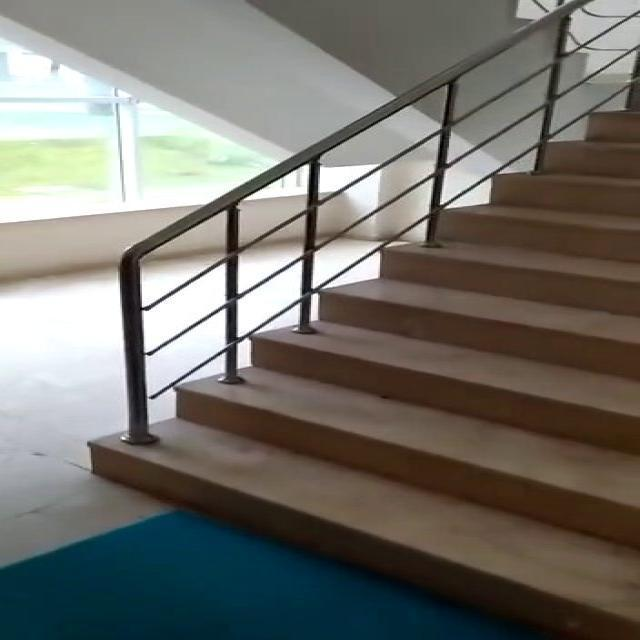stairs: (87, 101, 638, 638)
